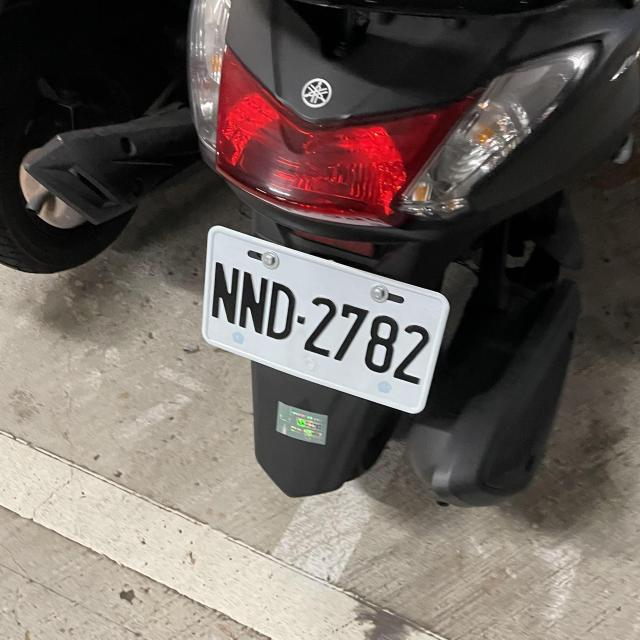W: (187, 223, 458, 416)
